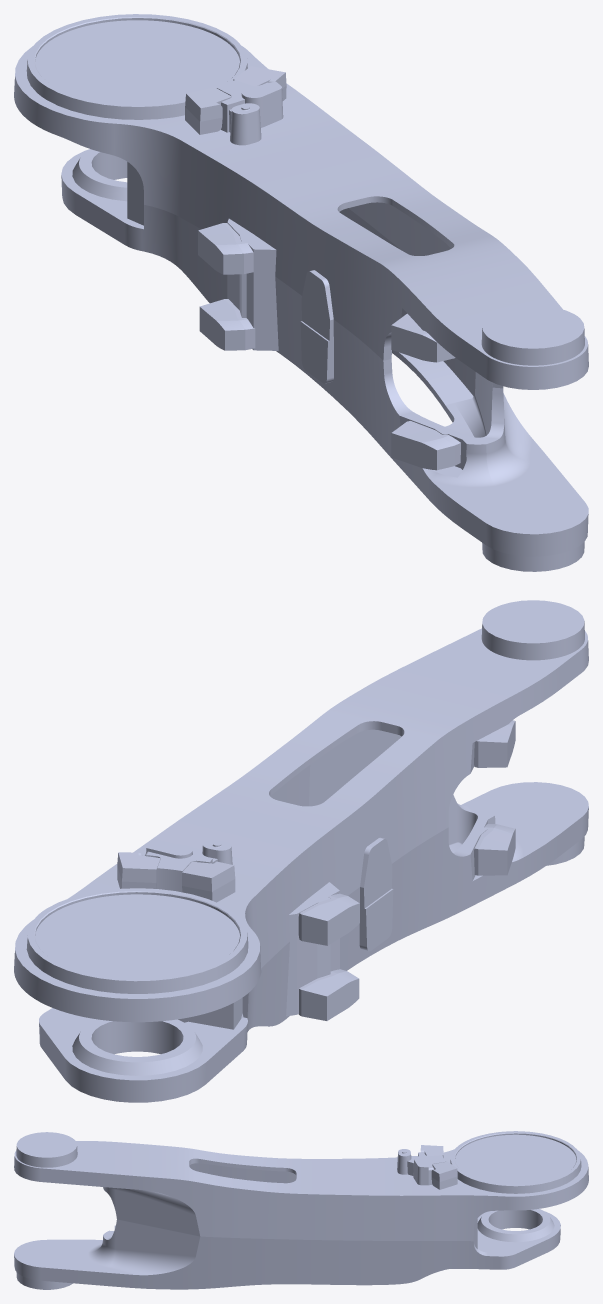
Rendered from IRB460_LOWER_ARM.glb.
The picture shows the model from 3 angles, top to bottom: view 1: azimuth 30°, elevation 25°; view 2: azimuth 150°, elevation 25°; view 3: azimuth 270°, elevation 25°; orthographic projection. The views are drawn at different scales.
Visible parts, largest first — view 1: IRB460_LOWER_ARM; view 2: IRB460_LOWER_ARM; view 3: IRB460_LOWER_ARM.
Part boxes in pixels (x1,y1,x2,y2): IRB460_LOWER_ARM: (14,14,588,571); IRB460_LOWER_ARM: (14,600,588,1102); IRB460_LOWER_ARM: (14,1131,588,1289).
Size of the model in its own units: 0.2951 by 0.294 by 1.16.
